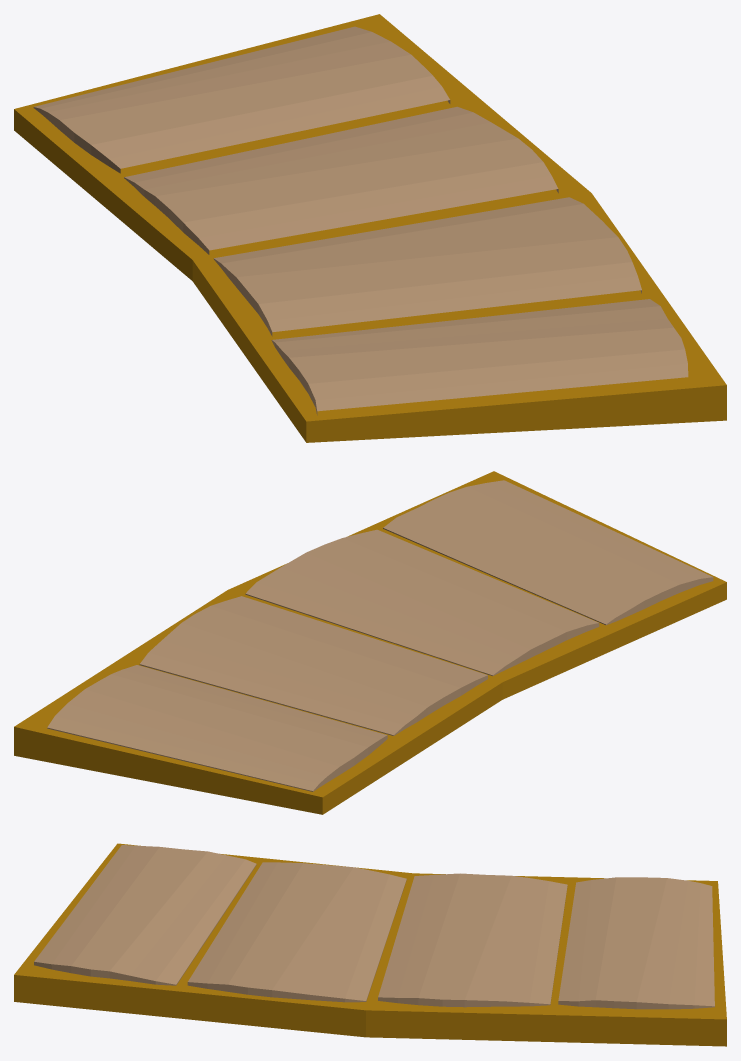
The model's file is outercircle.fbx.
The picture shows the model from 3 angles, top to bottom: view 1: azimuth 30°, elevation 25°; view 2: azimuth 150°, elevation 25°; view 3: azimuth 270°, elevation 25°; orthographic projection. The views are drawn at different scales.
Parts seen in each view (by area): view 1: Cylinder.043; view 2: Cylinder.043; view 3: Cylinder.043.
Part boxes in pixels (x1,y1,x2,y2): Cylinder.043: (14, 14, 726, 442); Cylinder.043: (14, 471, 726, 814); Cylinder.043: (14, 843, 726, 1046).
Bounding box in the file's own units: 1396 × 129 × 2389.
